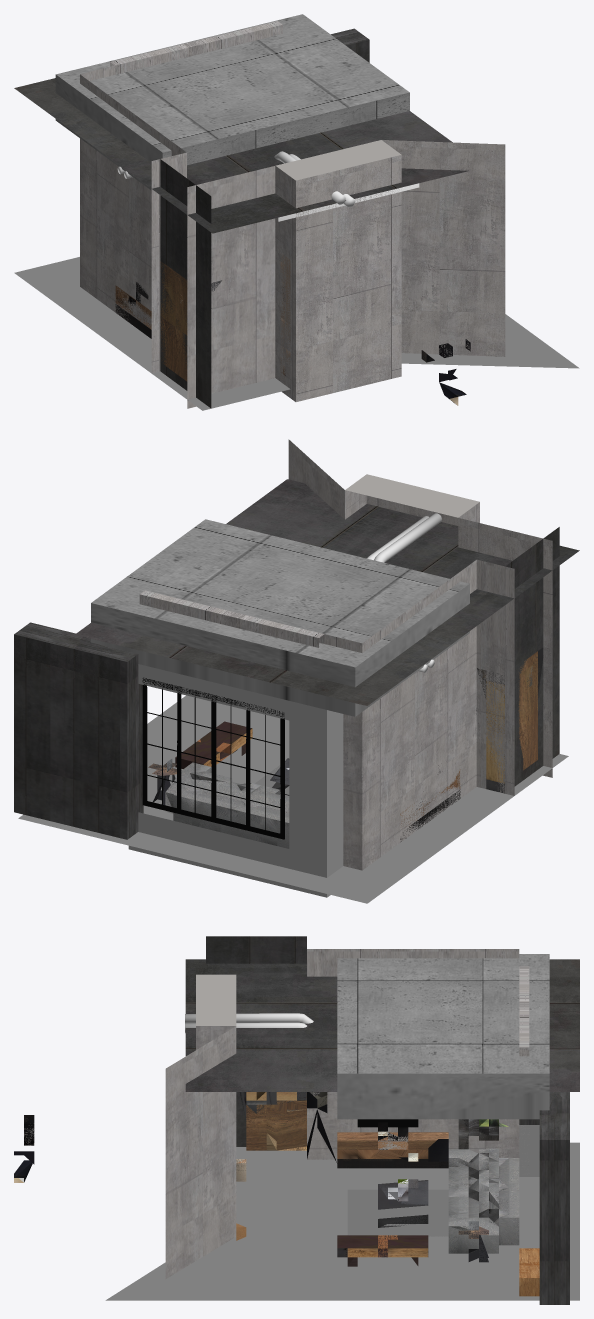
Rendered from living_room_interior_free.glb.
3 views of the same model, one above another, from view 1: azimuth 30°, elevation 25°; view 2: azimuth 150°, elevation 25°; view 3: azimuth 270°, elevation 25° (orthographic). The views are drawn at different scales.
Parts seen in each view (by area): view 1: object 7, object 1, object 4; view 2: object 1, object 7, Cylinder.004_Material.010_0; view 3: object 7, object 1, Cylinder.004_Material.010_0.
Part boxes in pixels (bbox=[...]): object 7: bbox=[14, 21, 579, 410]; object 1: bbox=[14, 14, 468, 408]; object 4: bbox=[278, 183, 419, 221]; object 1: bbox=[14, 479, 579, 897]; object 7: bbox=[18, 439, 568, 903]; Cylinder.004_Material.010_0: bbox=[374, 513, 441, 562]; object 7: bbox=[14, 949, 579, 1300]; object 1: bbox=[185, 936, 579, 1304]; Cylinder.004_Material.010_0: bbox=[185, 1013, 313, 1023].
Size of the model in its own units: 38 by 25 by 56.
Materials: 12 (8 with a texture image).
